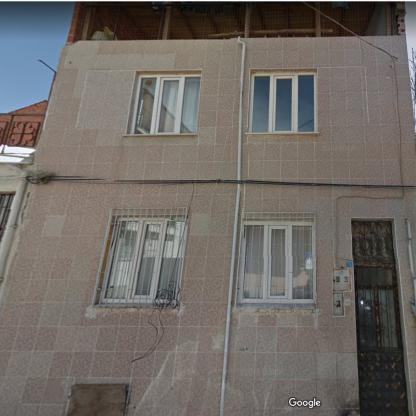door: (356, 267, 408, 415)
window: (99, 216, 186, 303), (236, 221, 314, 303), (128, 73, 200, 134), (249, 72, 317, 132), (353, 219, 394, 265)
